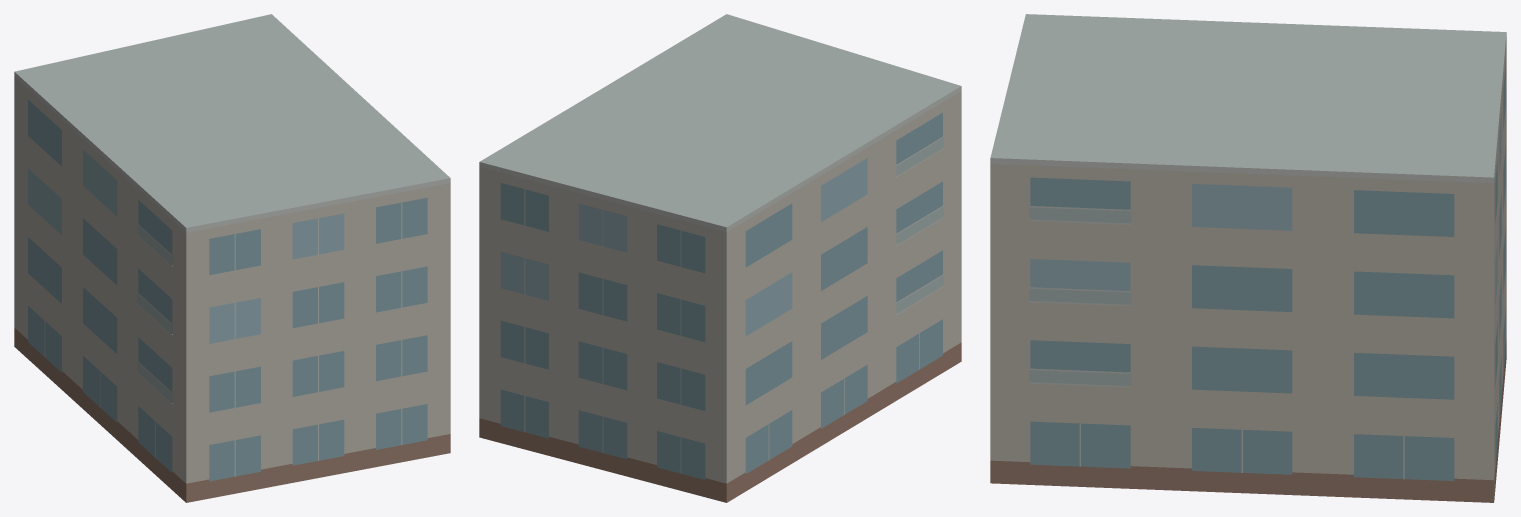
File: residential-d7d9723e-8473-4fa9-90fe-9ab3a3b8b620.glb
The picture shows the model from 3 angles, left to right: view 1: azimuth 30°, elevation 25°; view 2: azimuth 150°, elevation 25°; view 3: azimuth 270°, elevation 25°; orthographic projection. The views are drawn at different scales.
Visible parts, largest first — view 1: residential-d7d9723e-8473-4fa9-90fe-9ab3a3b8b620.tmp; view 2: residential-d7d9723e-8473-4fa9-90fe-9ab3a3b8b620.tmp; view 3: residential-d7d9723e-8473-4fa9-90fe-9ab3a3b8b620.tmp.
Part boxes in pixels (x1=…): residential-d7d9723e-8473-4fa9-90fe-9ab3a3b8b620.tmp: x1=14, y1=14, x2=450, y2=502; residential-d7d9723e-8473-4fa9-90fe-9ab3a3b8b620.tmp: x1=479, y1=14, x2=961, y2=502; residential-d7d9723e-8473-4fa9-90fe-9ab3a3b8b620.tmp: x1=990, y1=14, x2=1506, y2=502.
Bounding box in the file's own units: 14.83 × 13.75 × 19.78.
